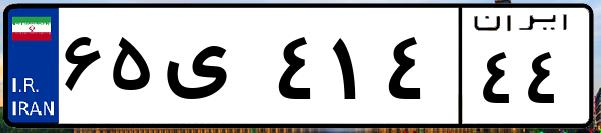1: (330, 28, 385, 110)
4: (270, 28, 330, 110), (385, 28, 445, 110), (475, 38, 525, 113), (525, 38, 570, 115)
5: (110, 28, 158, 98)
6: (57, 26, 110, 100)
ی: (158, 20, 270, 120)
